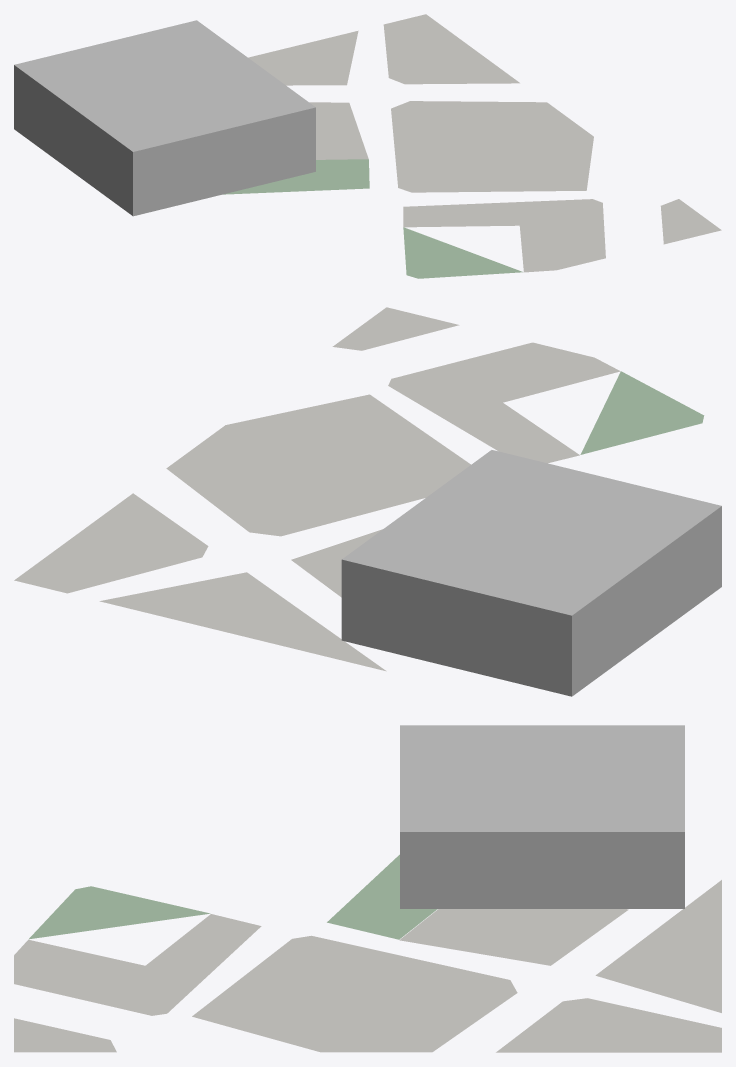
File: 102_91_mid.glb
The picture shows the model from 3 angles, top to bottom: view 1: azimuth 30°, elevation 25°; view 2: azimuth 150°, elevation 25°; view 3: azimuth 270°, elevation 25°; orthographic projection. The views are drawn at different scales.
Bounding box in the file's own units: 417 × 60.61 × 500.
